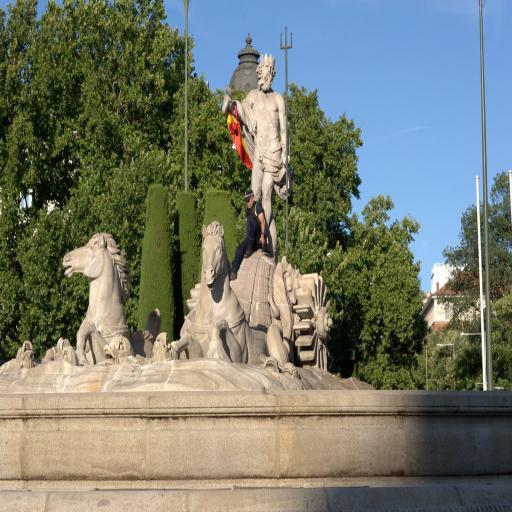Horse: (170, 219, 270, 360), (62, 229, 153, 367)
